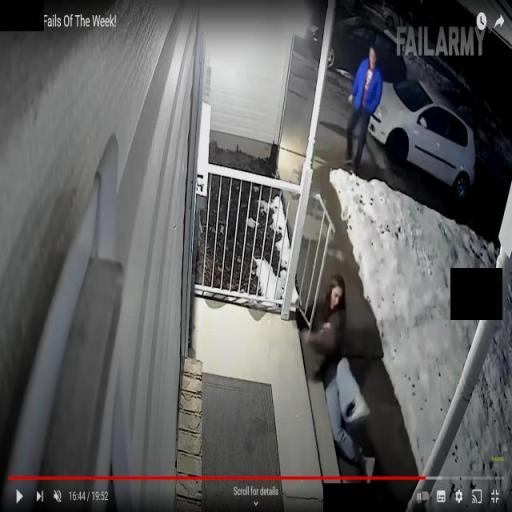Fall: (296, 270, 378, 490)
